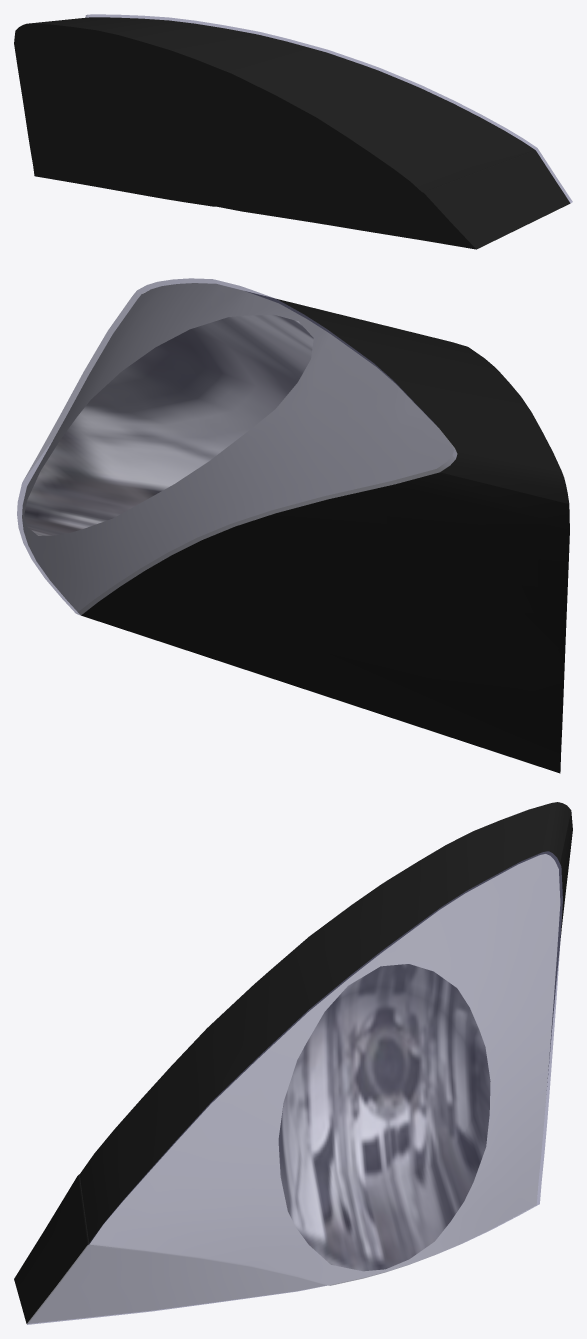
3 renders of one model, top to bottom at view 1: azimuth 30°, elevation 25°; view 2: azimuth 150°, elevation 25°; view 3: azimuth 270°, elevation 25°, orthographic. The views are drawn at different scales.
Parts seen in each view (by area): view 1: P157_061B_L_P157_061B_L_4_D, P157_061B_L_P157_061B_L_3_DTaSI; view 2: P157_061B_L_P157_061B_L_4_D, P157_061B_L_P157_061B_L_3_DTaSI, P157_061B_L_P157_061B_L_2_DaS, P157_061B_L_1_N_P157_061B_L; view 3: P157_061B_L_P157_061B_L_3_DTaSI, P157_061B_L_P157_061B_L_2_DaS, P157_061B_L_1_N_P157_061B_L, P157_061B_L_P157_061B_L_4_D.
Boxes of the visible parts, bbox=[...] form: P157_061B_L_P157_061B_L_4_D: bbox=[14, 17, 570, 249]; P157_061B_L_P157_061B_L_3_DTaSI: bbox=[85, 14, 572, 202]; P157_061B_L_P157_061B_L_4_D: bbox=[81, 291, 569, 773]; P157_061B_L_P157_061B_L_3_DTaSI: bbox=[17, 278, 456, 615]; P157_061B_L_P157_061B_L_2_DaS: bbox=[22, 283, 457, 614]; P157_061B_L_1_N_P157_061B_L: bbox=[24, 314, 313, 535]; P157_061B_L_P157_061B_L_3_DTaSI: bbox=[27, 851, 562, 1324]; P157_061B_L_P157_061B_L_2_DaS: bbox=[27, 854, 560, 1323]; P157_061B_L_1_N_P157_061B_L: bbox=[278, 964, 490, 1271]; P157_061B_L_P157_061B_L_4_D: bbox=[14, 802, 572, 1323].
Bounding box in the file's own units: 59.92 × 25.24 × 47.71.
